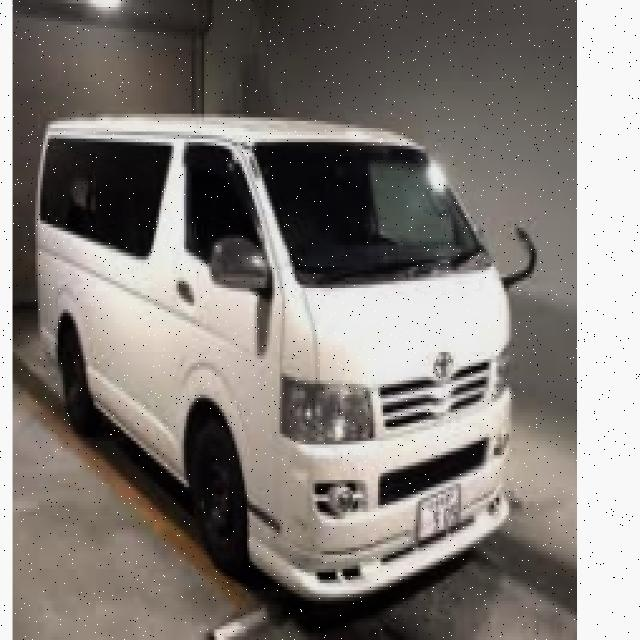Van: (32, 111, 536, 612)
